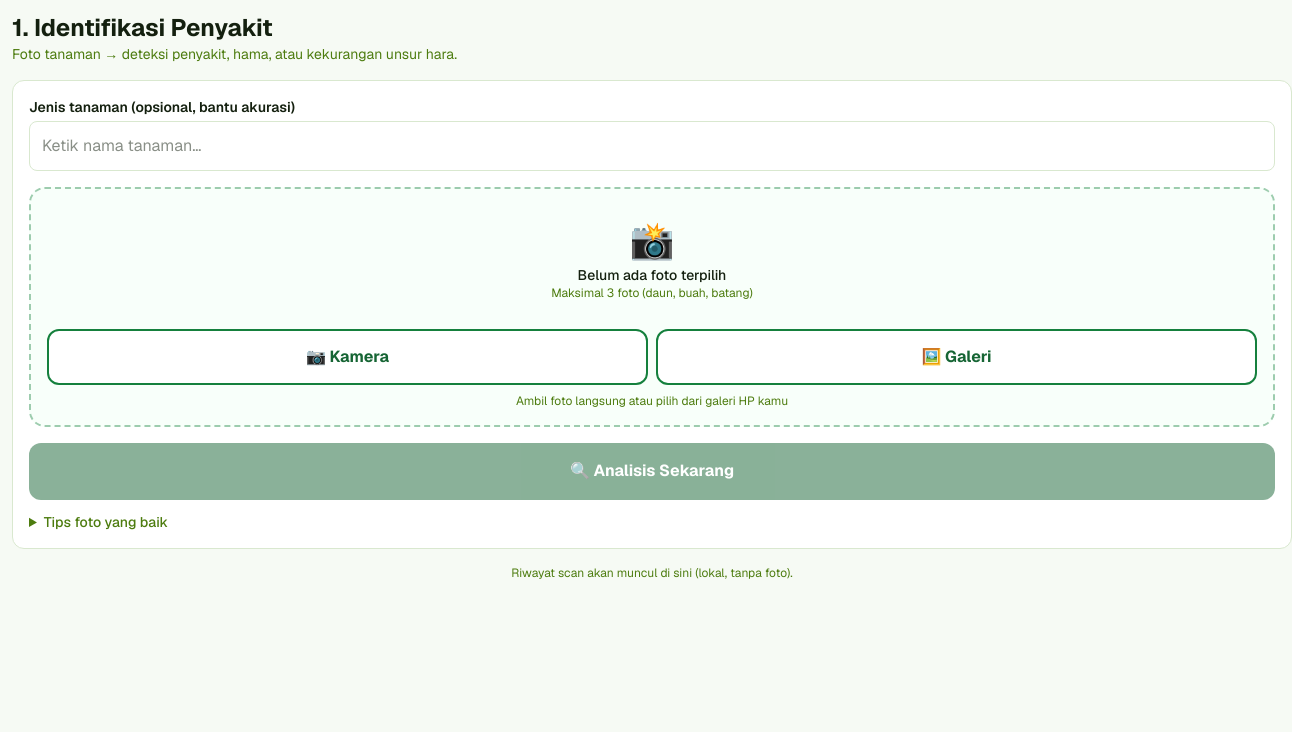
Test: IdentifikasiClient — pemilih tanaman ketik-lalu-klik (semua Tier) › menjangkau komoditas Tier B & menandainya template
Type "nanas" into the dropdown with id "cari-tanaman-identifikasi".
click(652, 146); type("nanas")  # box [29, 121, 1275, 171]
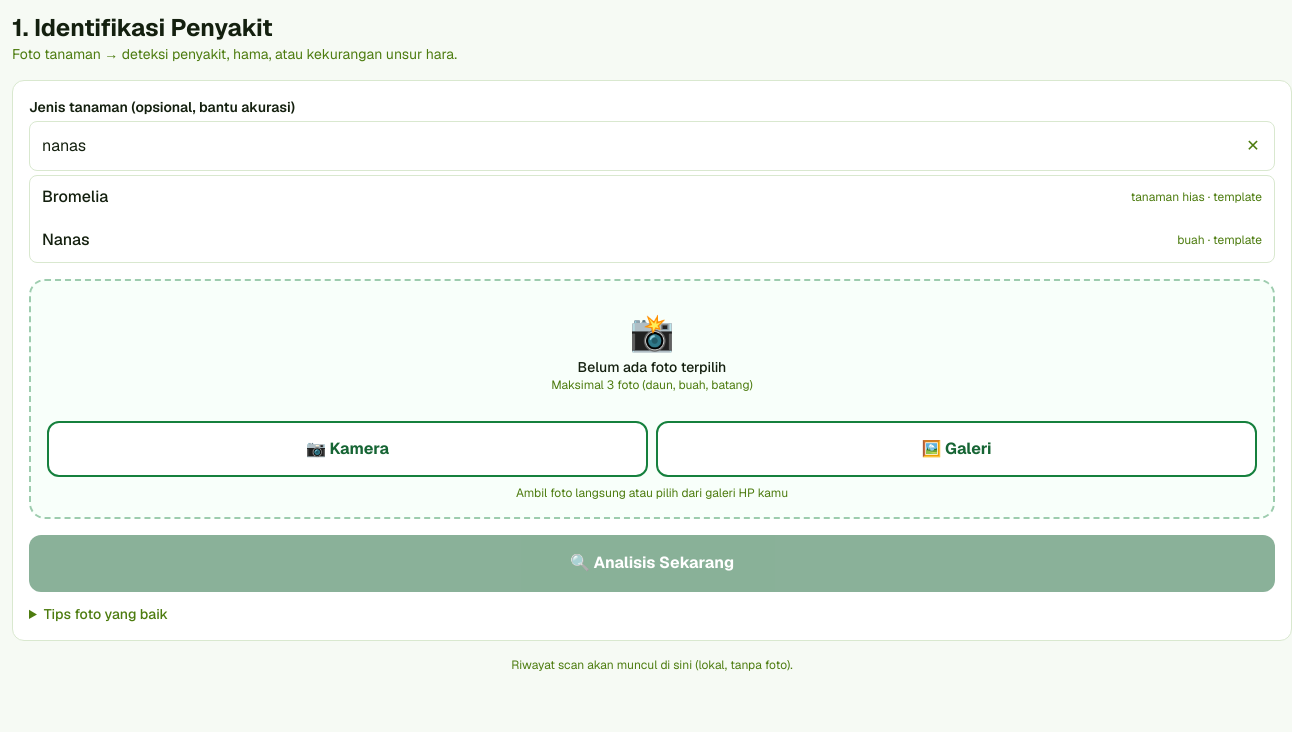
Result: the button "Nanas buah · template" is shown
Click the button "Nanas buah · template".
click(66, 239)  # box [30, 219, 1274, 262]
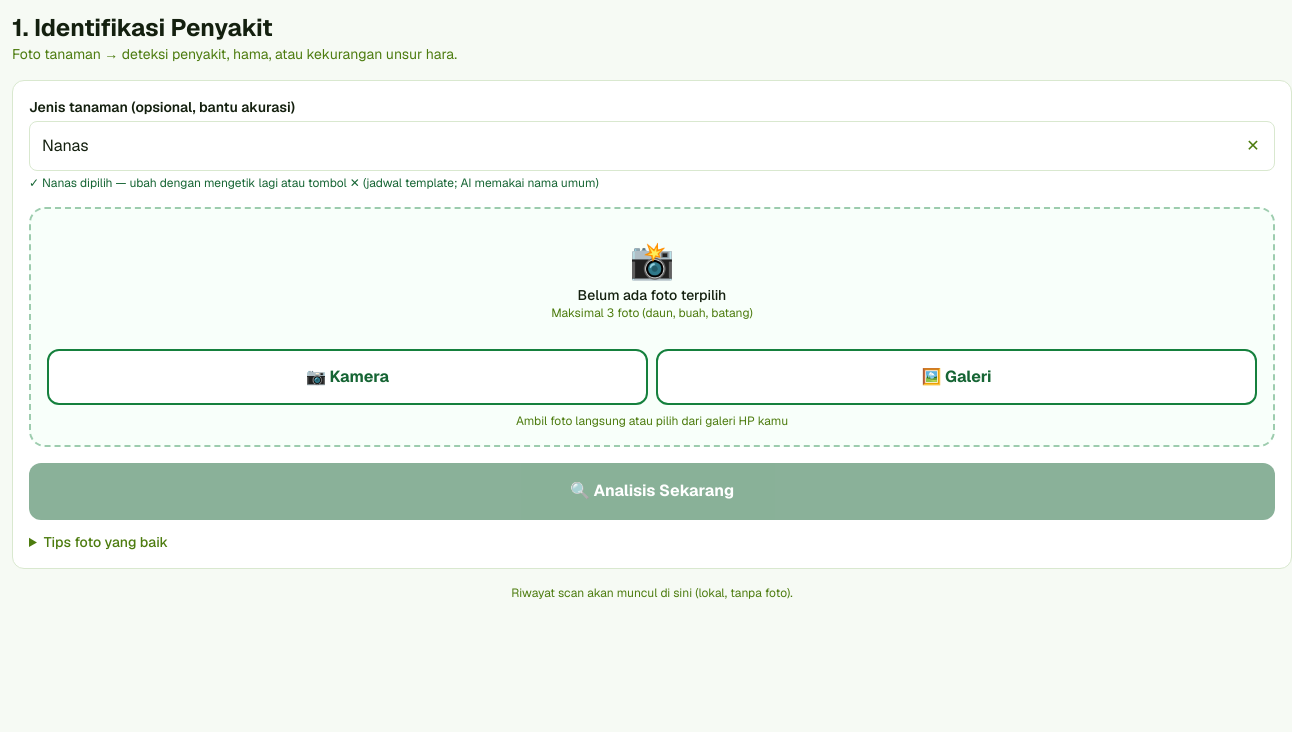
Result: the text "jadwal template; AI memakai nama umum" is shown at [360, 175, 599, 191]
